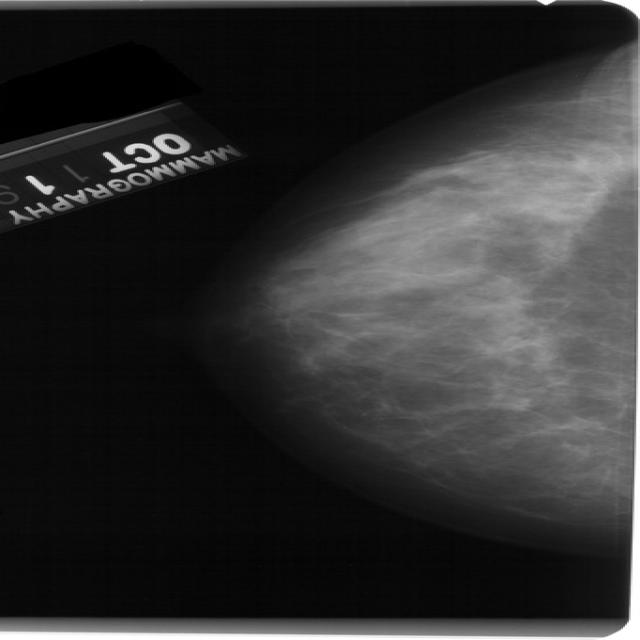tumour: (448, 148, 508, 182)
